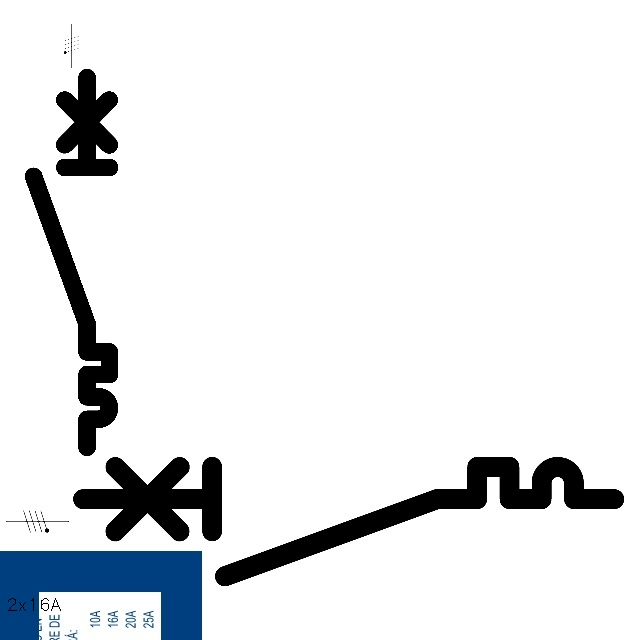interruptor_termomagnetico: (69, 453, 628, 590), (24, 68, 119, 457)
